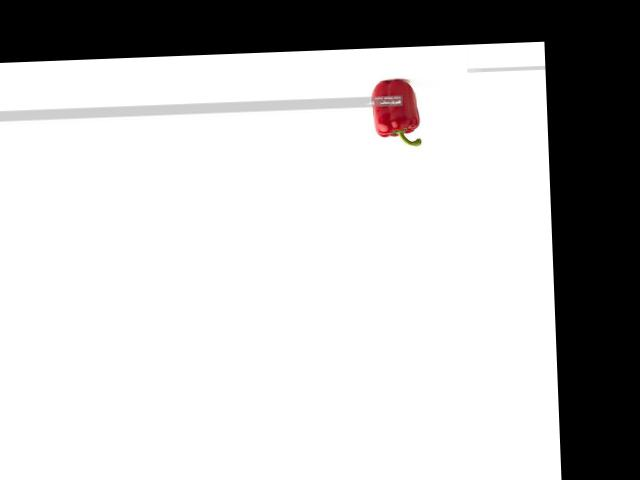bell_pepper: (367, 80, 428, 151)
